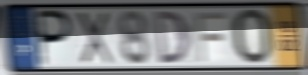8: (117, 9, 152, 67)
D: (151, 9, 193, 66)
F: (192, 10, 229, 64)
O: (229, 7, 274, 67)
P: (36, 8, 75, 68)
X: (74, 10, 116, 66)
